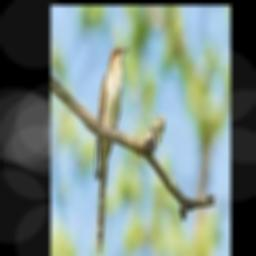Cuckoo: (94, 46, 131, 253)
